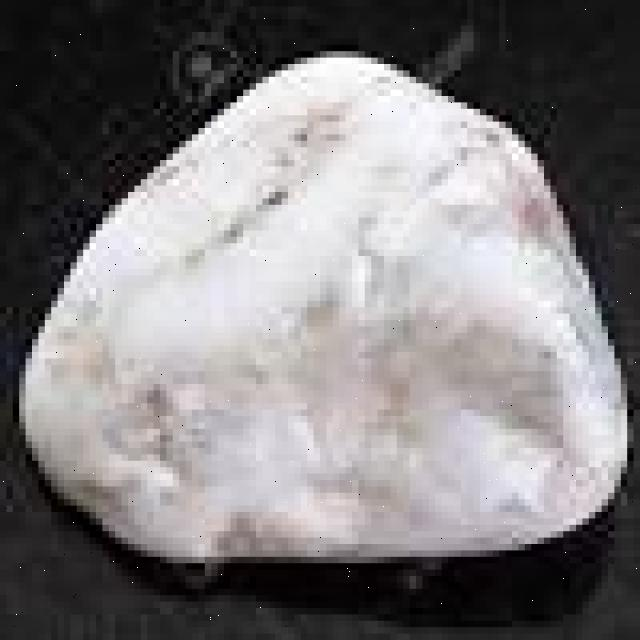Metamorphic: (19, 45, 627, 608)
